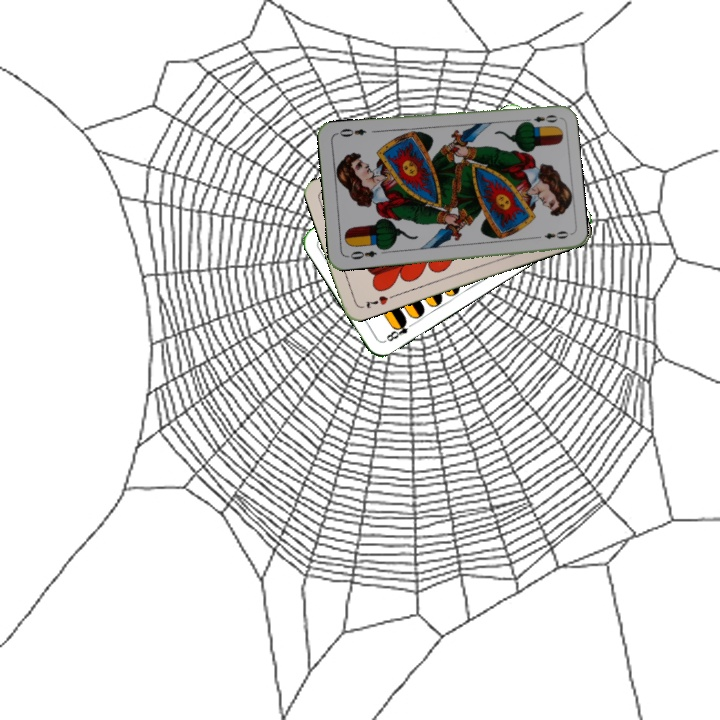E8: (380, 316, 417, 345)
EO: (520, 111, 560, 127), (343, 247, 379, 262)
H7: (361, 291, 397, 311)
